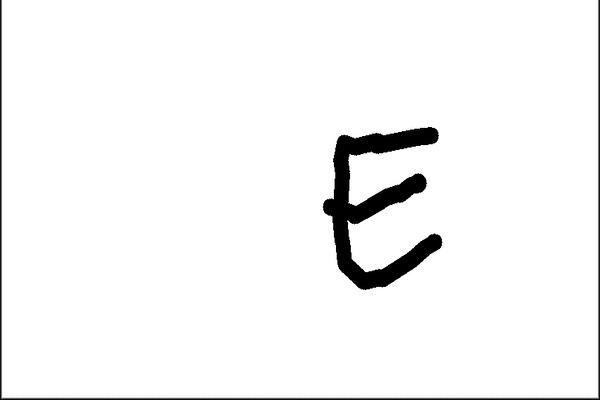E: (315, 123, 443, 295)
